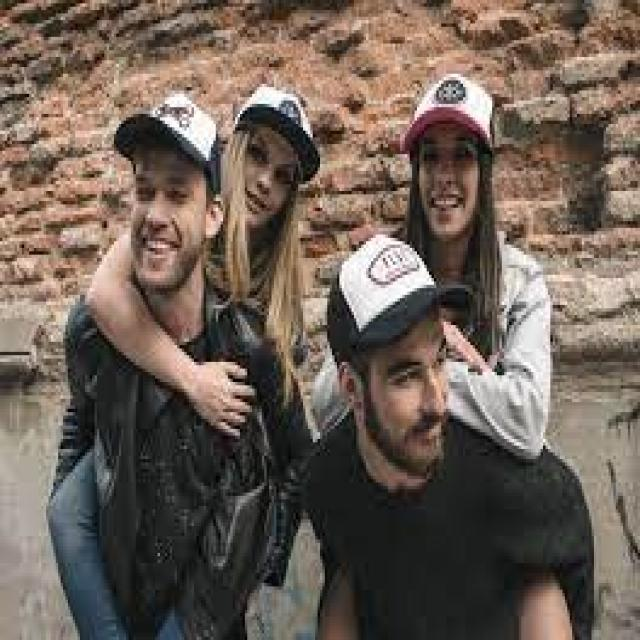cap: (322, 228, 468, 422), (102, 70, 235, 242), (400, 64, 499, 201), (225, 80, 320, 208)
